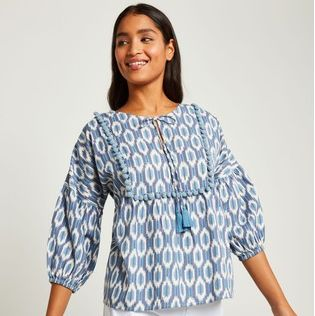C_dress: (41, 124, 264, 312)
